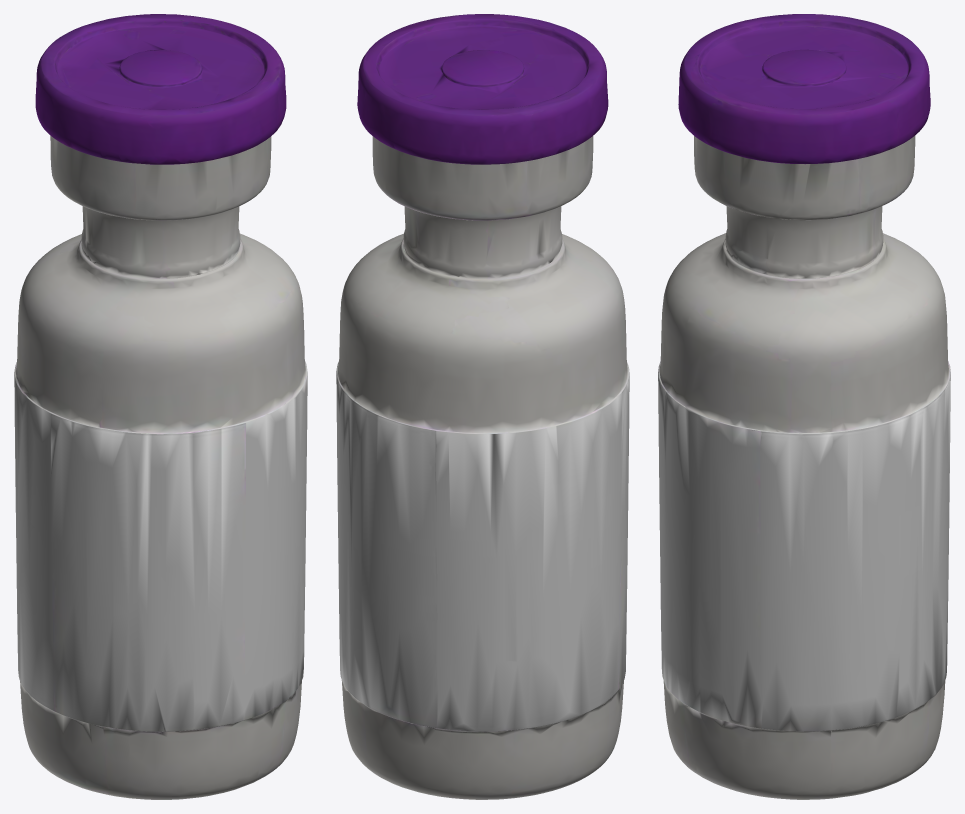
File: item-vial.glb
3 views of the same model, side by side, from view 1: azimuth 30°, elevation 25°; view 2: azimuth 150°, elevation 25°; view 3: azimuth 270°, elevation 25° (orthographic).
Parts seen in each view (by area): view 1: material; view 2: material; view 3: material.
Boxes of the visible parts, x1=… form: material: x1=14, y1=14, x2=307, y2=799; material: x1=336, y1=14, x2=629, y2=799; material: x1=658, y1=14, x2=950, y2=799.
Size of the model in its own units: 0.4437 by 1.14 by 0.4416.
1 material, 1 textured.
